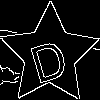D: (24, 30, 71, 84)
